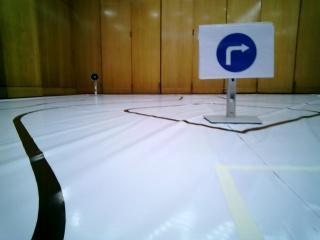right: (199, 27, 275, 79)
